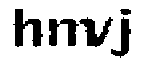h: (7, 5, 44, 54)
j: (111, 5, 135, 60)
m: (45, 15, 93, 52)
v: (81, 17, 114, 50)
